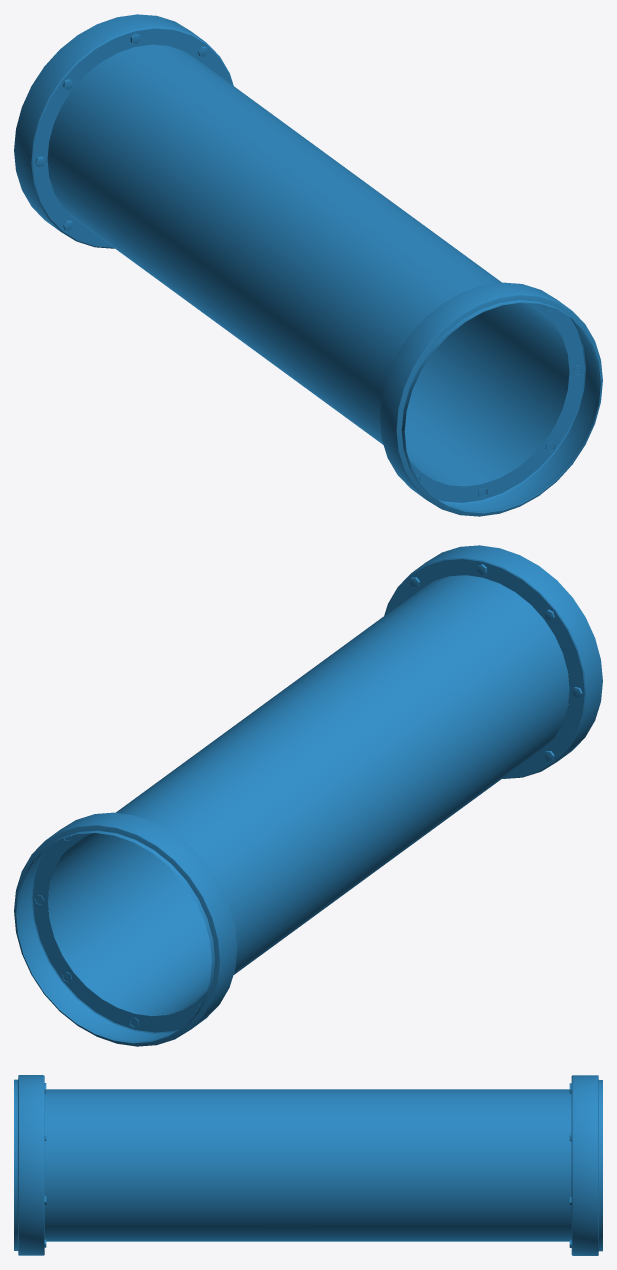
The model's file is Sub_1Pipe_Pix_LOD1.fbx.
3 renders of one model, top to bottom at view 1: azimuth 30°, elevation 25°; view 2: azimuth 150°, elevation 25°; view 3: azimuth 270°, elevation 25°, orthographic. The views are drawn at different scales.
Visible parts, largest first — view 1: Sub_1Pipe_Pix_LOD1; view 2: Sub_1Pipe_Pix_LOD1; view 3: Sub_1Pipe_Pix_LOD1.
Boxes of the visible parts, <box> form: Sub_1Pipe_Pix_LOD1: <box>14,14,602,516</box>; Sub_1Pipe_Pix_LOD1: <box>14,545,602,1046</box>; Sub_1Pipe_Pix_LOD1: <box>14,1075,602,1255</box>.
Size of the model in its own units: 50.67 by 50.56 by 165.
